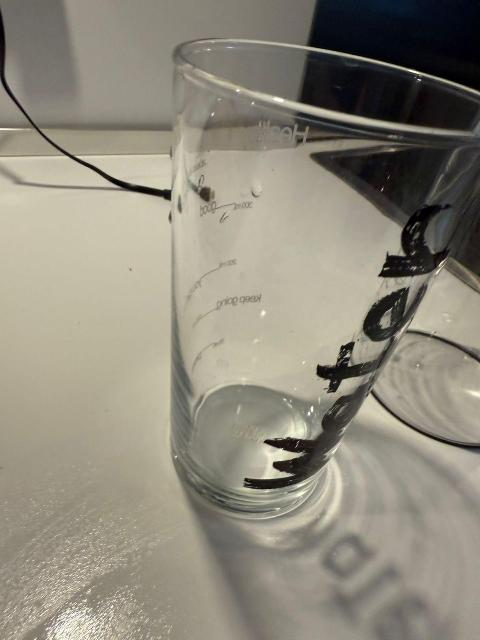Cam: (160, 33, 480, 515), (363, 228, 480, 448)
